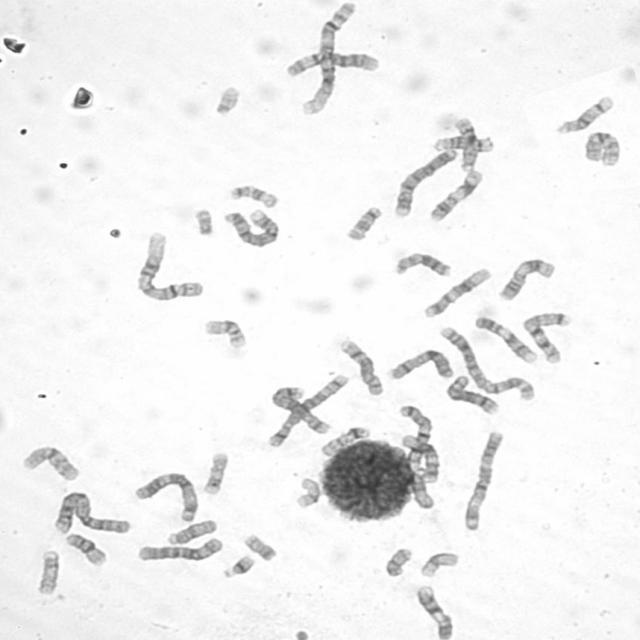A1: (297, 0, 359, 116), (131, 228, 206, 302)
A2: (436, 323, 536, 402), (49, 488, 132, 535)
A3: (458, 428, 506, 532), (130, 468, 200, 524)
B4: (390, 145, 460, 219), (220, 206, 282, 249)
B5: (263, 371, 351, 448), (266, 383, 331, 435)
C10: (17, 442, 81, 484), (580, 128, 622, 168)
C11: (425, 166, 485, 224), (495, 255, 557, 302)
C12: (420, 264, 493, 320), (398, 432, 442, 484)
C6: (280, 49, 382, 78), (133, 534, 224, 564)
C7: (518, 309, 573, 365), (395, 402, 434, 467)
C8: (336, 336, 386, 397), (442, 372, 502, 416)
C9: (472, 312, 540, 364), (412, 582, 455, 640)
D13: (391, 249, 453, 279), (450, 114, 480, 172)
D14: (553, 92, 615, 135), (430, 131, 496, 153)
D15: (404, 466, 440, 513), (162, 516, 218, 546)
E16: (62, 530, 108, 568), (200, 316, 248, 350)
E17: (198, 449, 230, 497), (33, 547, 60, 596)
E18: (342, 203, 383, 242), (225, 182, 279, 209)
F19: (416, 549, 460, 579), (289, 476, 326, 510)
F20: (380, 544, 415, 579), (240, 531, 278, 562)
G21: (218, 552, 256, 580), (338, 424, 371, 449)
G22: (210, 82, 242, 116), (190, 205, 215, 237)
X: (383, 346, 455, 382)
Y: (317, 433, 354, 459)
